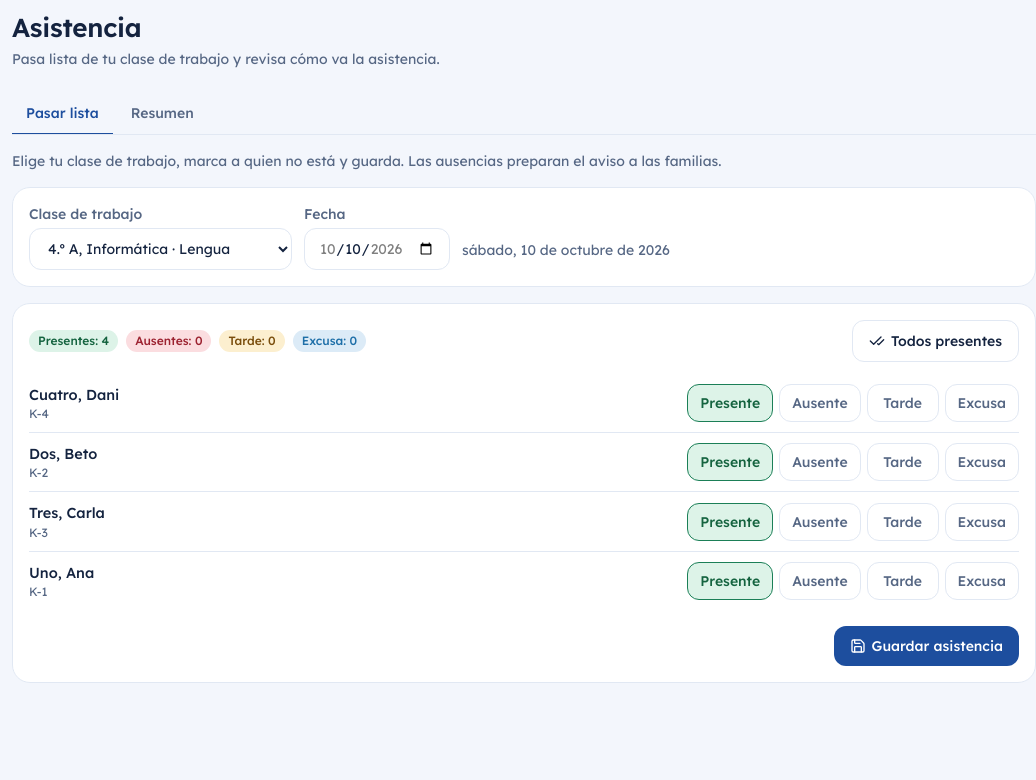
Scenario: Asistencia › "Todos presentes" deshace las marcas
Step 1. Click the button "Ausente" in the row of "Uno" → (820, 581), box [779,562,861,600]
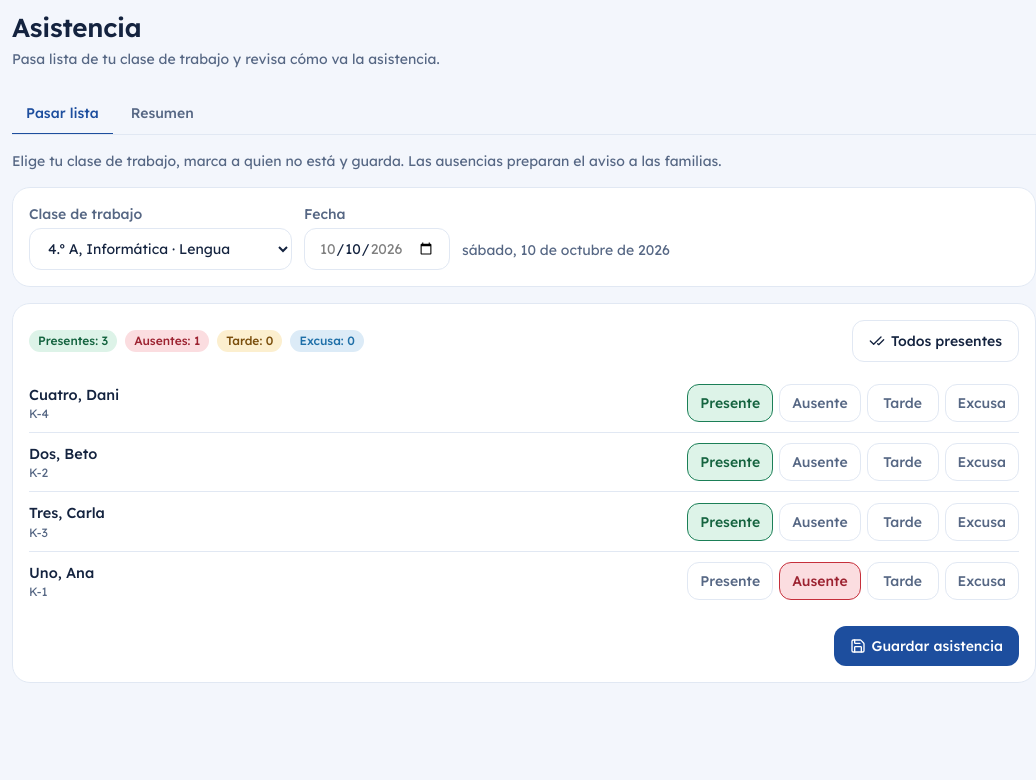
Step 2. Click the button "Excusa" in the row of "Cuatro" → (982, 403), box [945,384,1019,422]
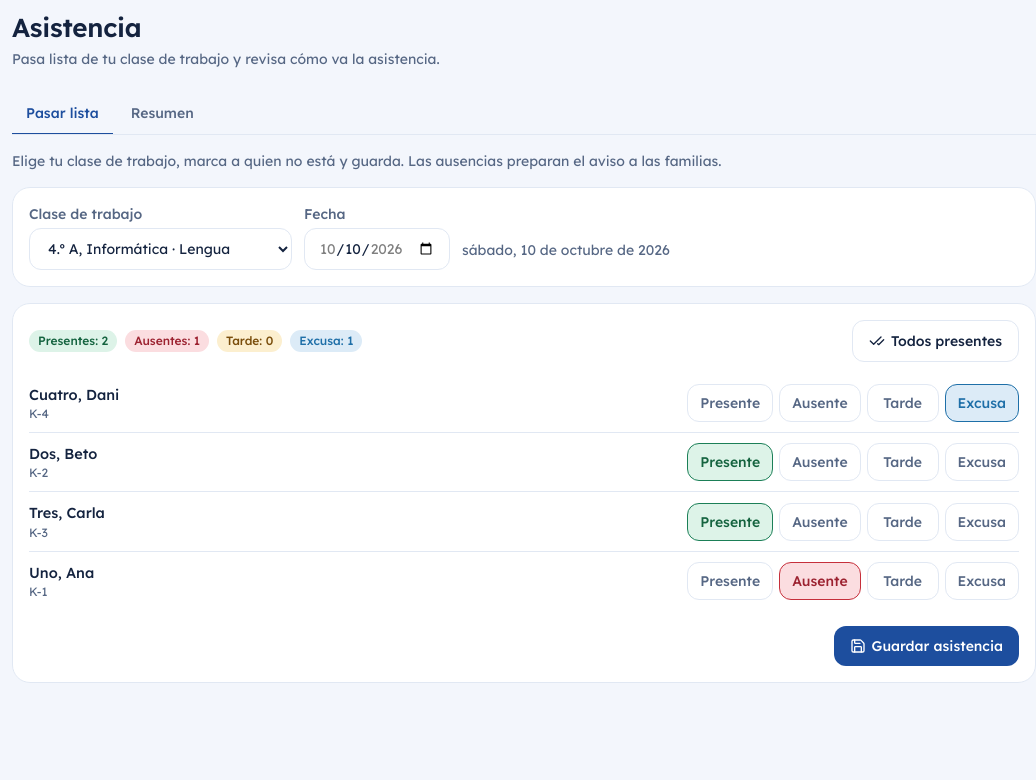
Step 3. Click the button "Todos presentes" → (935, 340), box [852,320,1019,362]
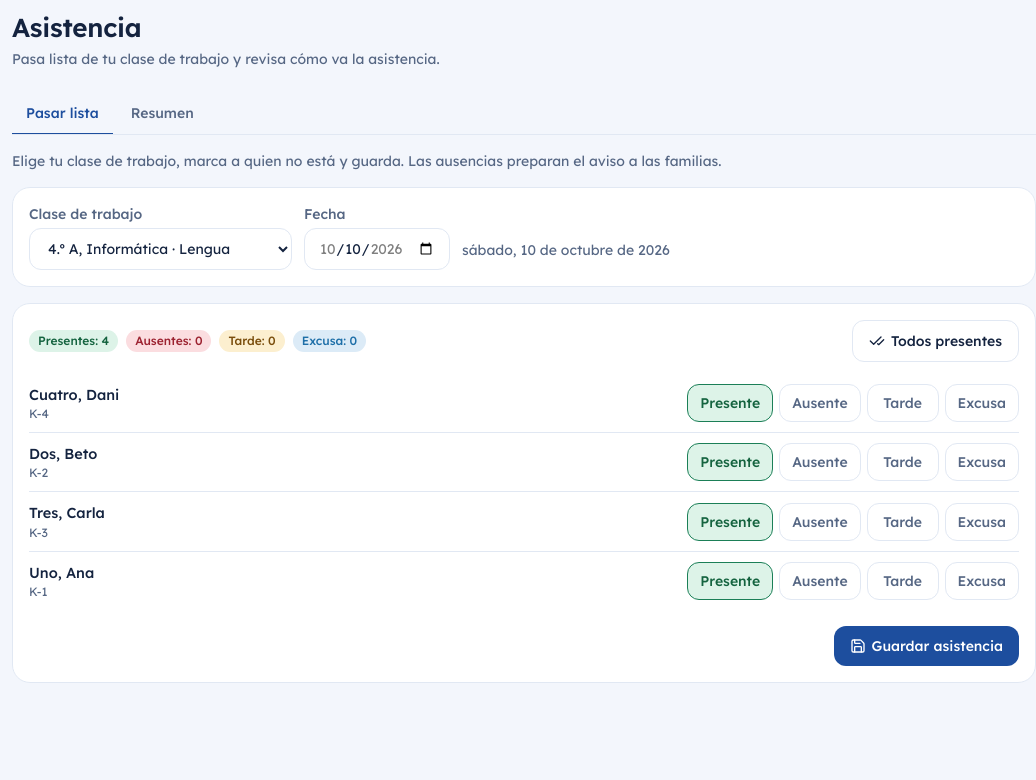
Result: the text "Presentes: 4" is shown at [29,330,118,352]
